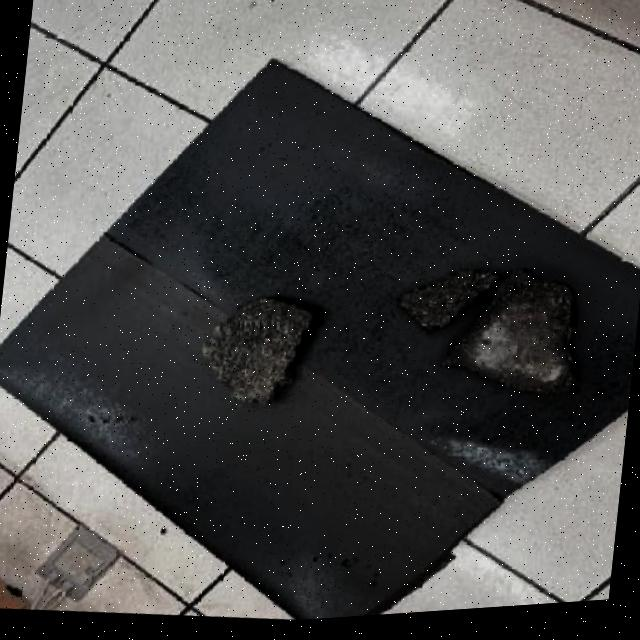Road Debris: (424, 246, 584, 353), (406, 42, 515, 138), (395, 114, 495, 207)
